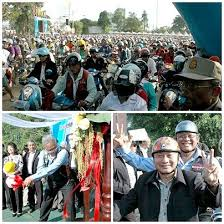helmet: (151, 136, 179, 175), (173, 121, 202, 151), (63, 52, 85, 73)
